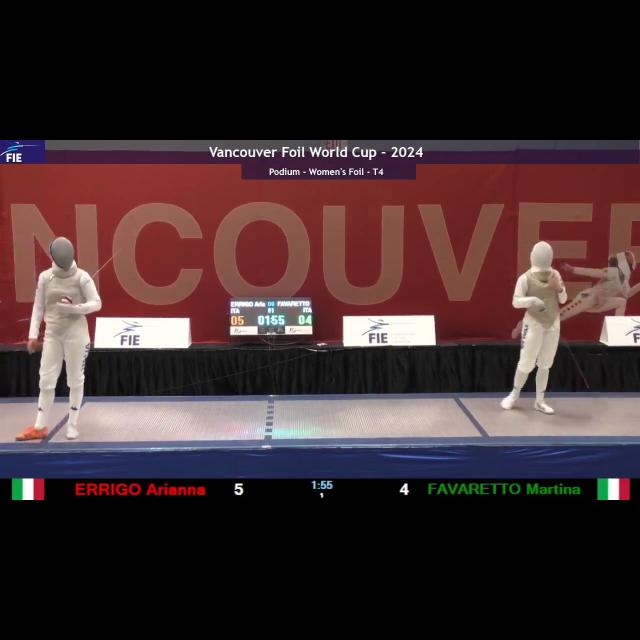blade: (64, 236, 134, 304), (540, 304, 590, 388)
